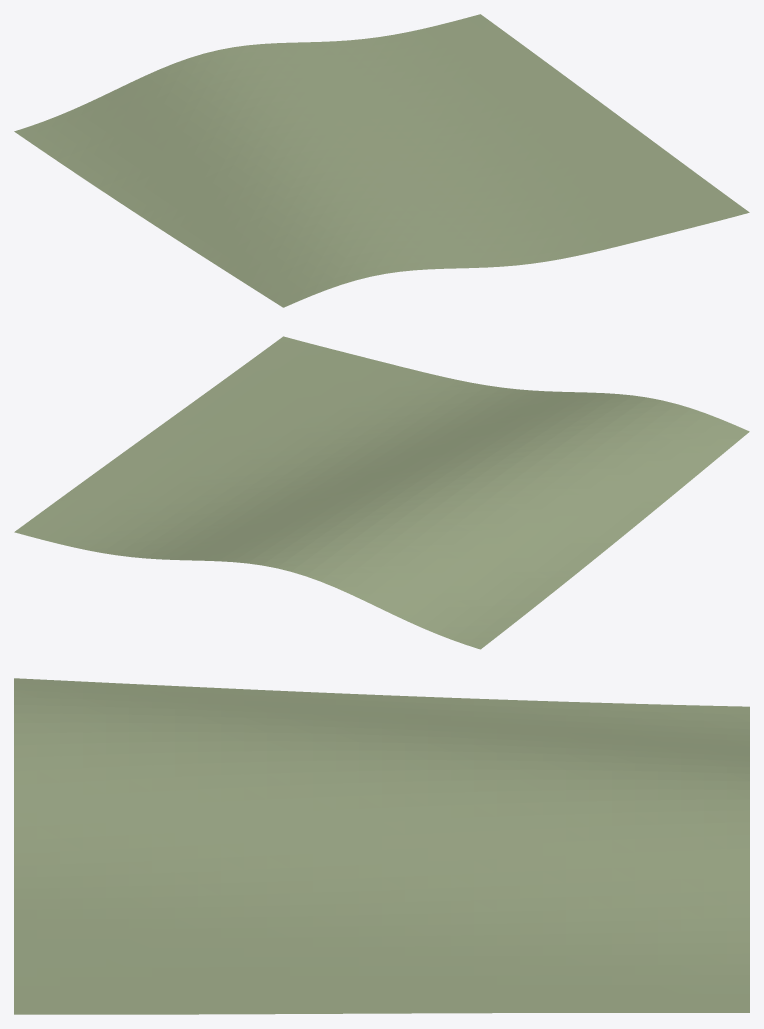
File: desert-6-5.glb
3 views of the same model, one above another, from view 1: azimuth 30°, elevation 25°; view 2: azimuth 150°, elevation 25°; view 3: azimuth 270°, elevation 25° (orthographic). The views are drawn at different scales.
Visible parts, largest first — view 1: desert-6-5; view 2: desert-6-5; view 3: desert-6-5.
Part boxes in pixels (x1,y1,x2,y2): desert-6-5: (14, 14, 749, 307); desert-6-5: (14, 336, 749, 649); desert-6-5: (14, 678, 749, 1014).
Size of the model in its own units: 512 by 33.68 by 512.
